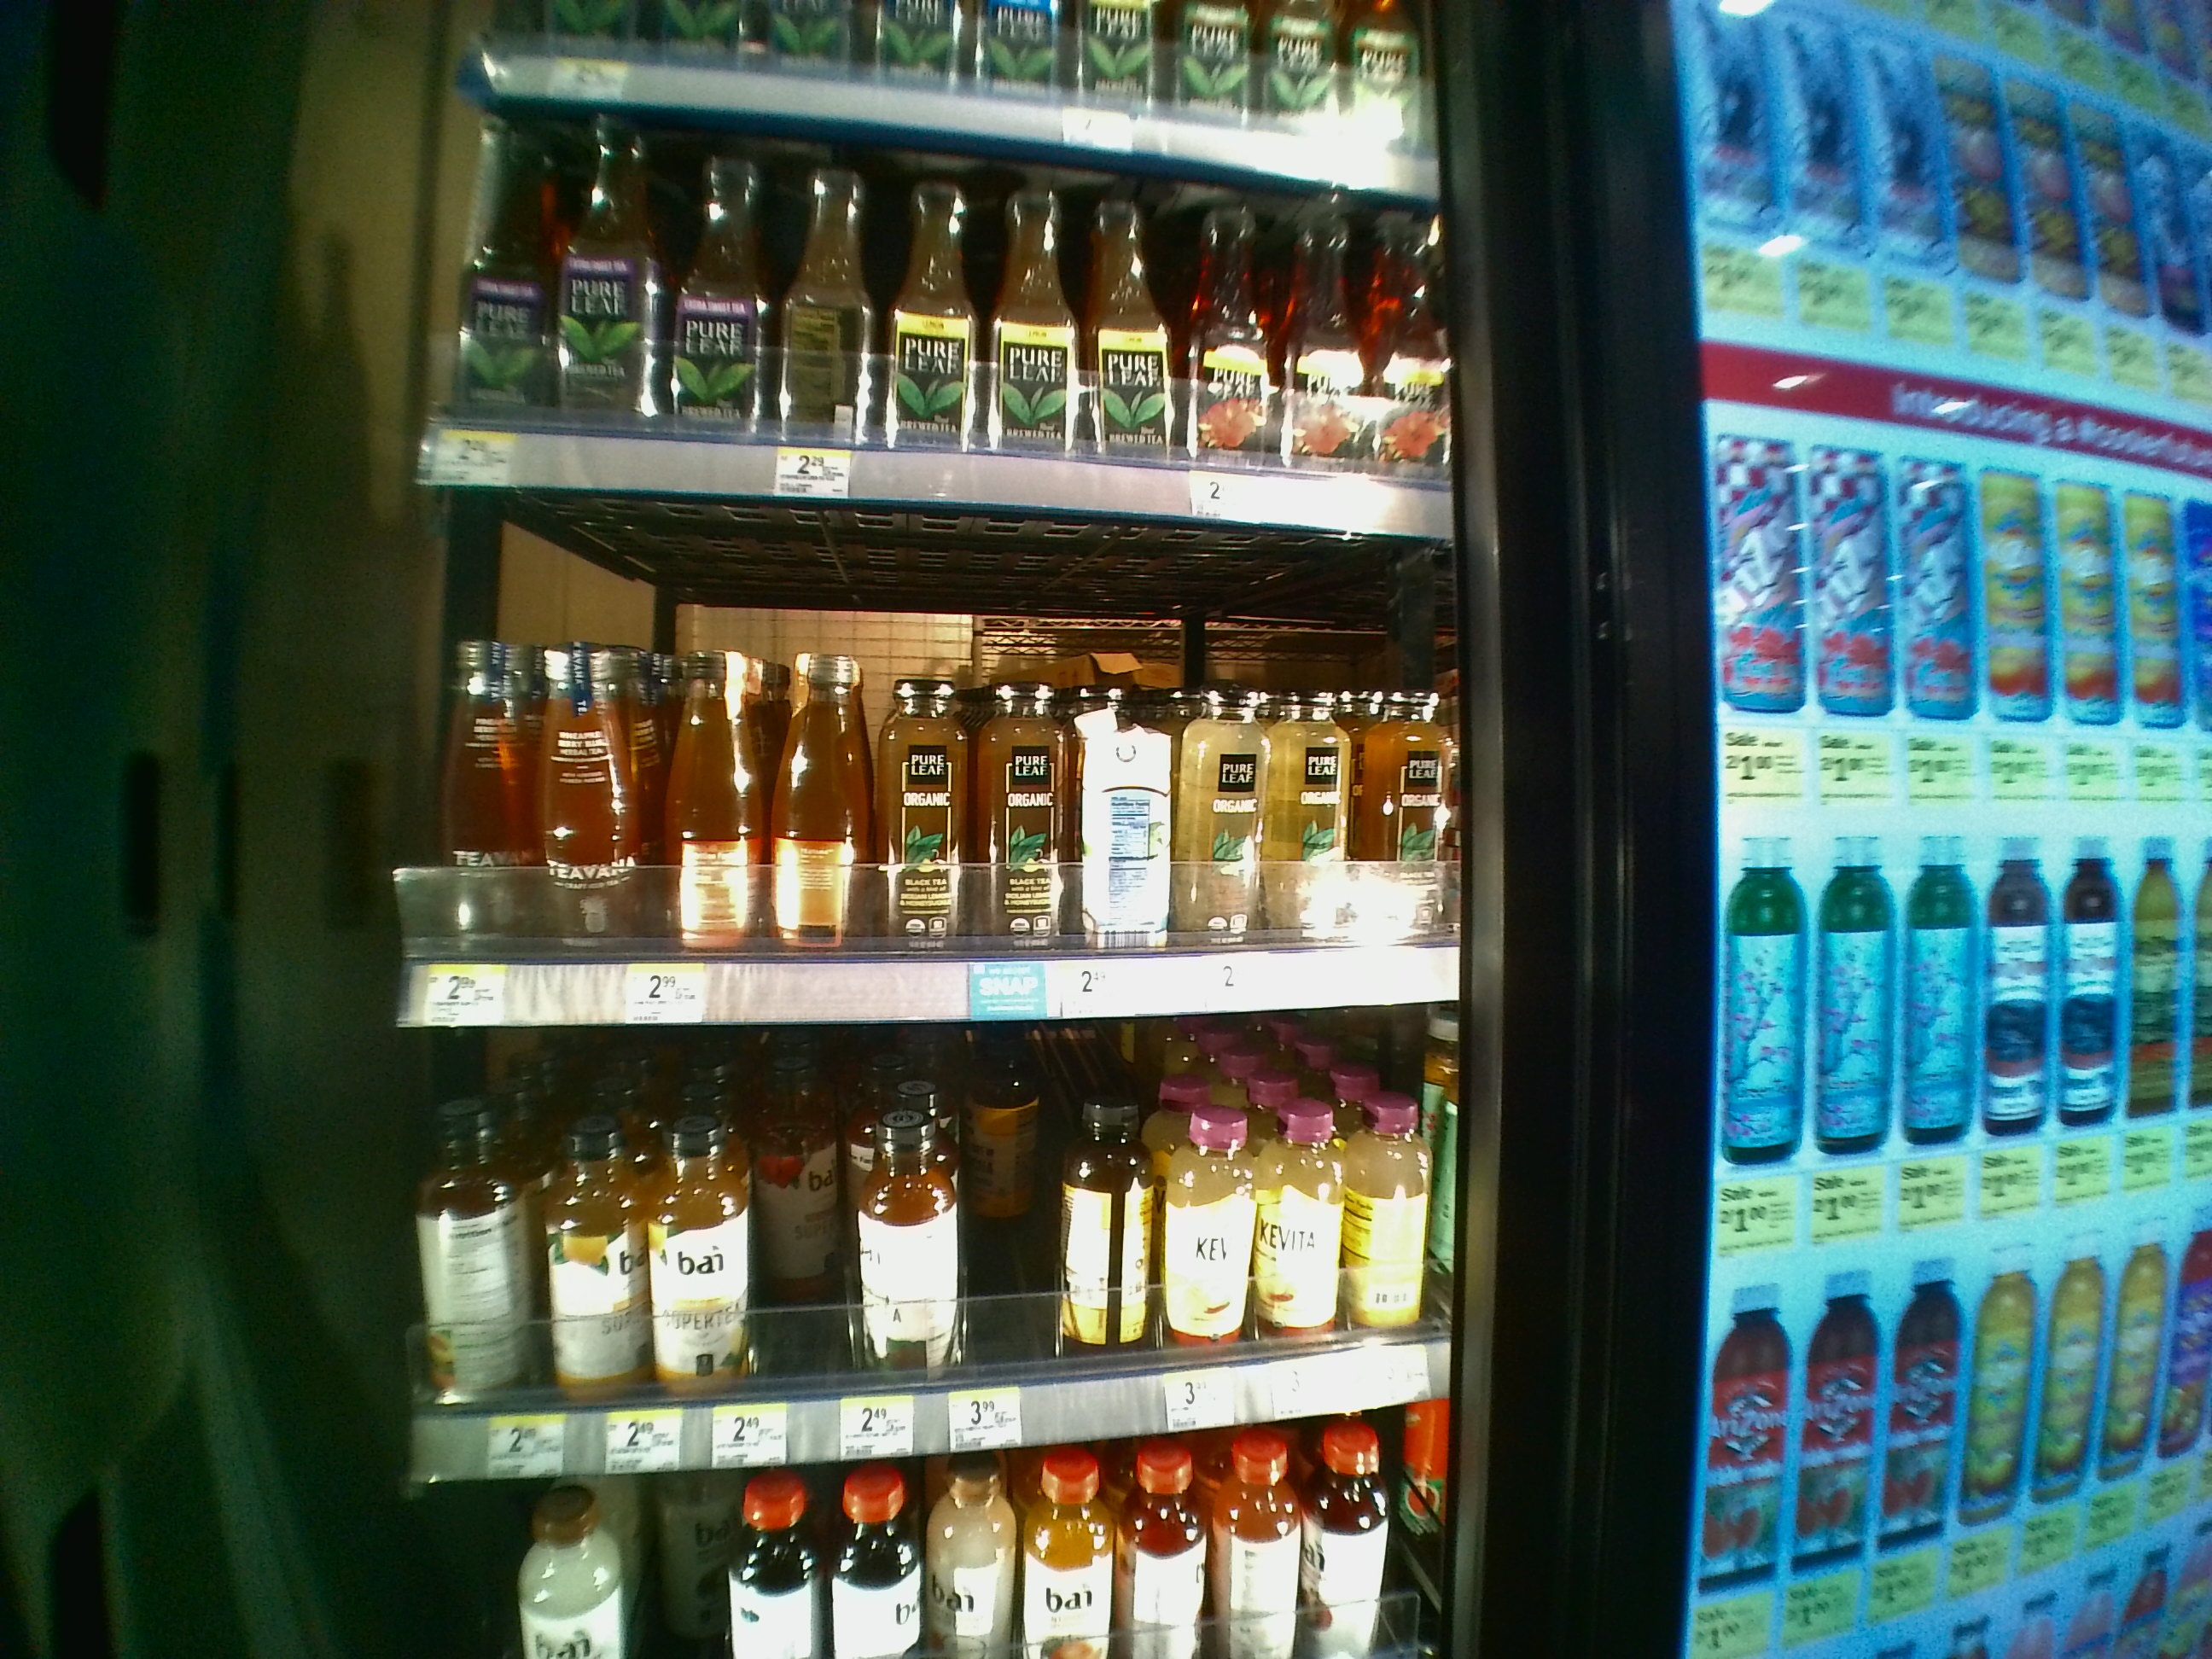shelf: (401, 490, 1465, 1019), (406, 1028, 1468, 1459)
